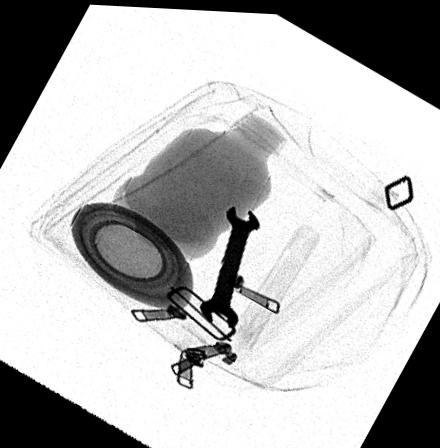Wrench: (198, 202, 262, 329)
